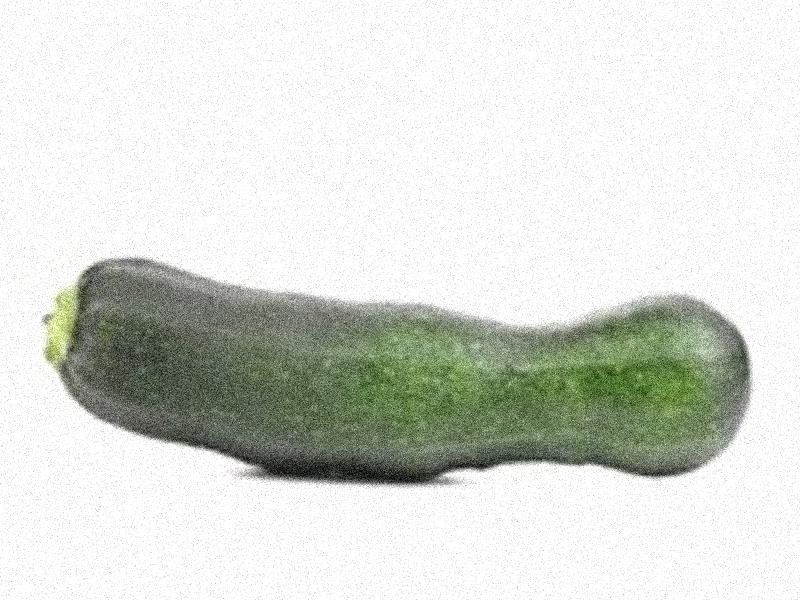Cucumber: (41, 256, 750, 478)
